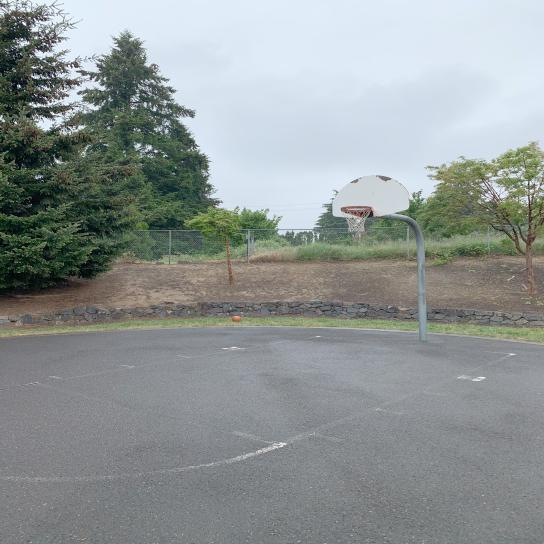basketball-hoop: (340, 205, 374, 233)
